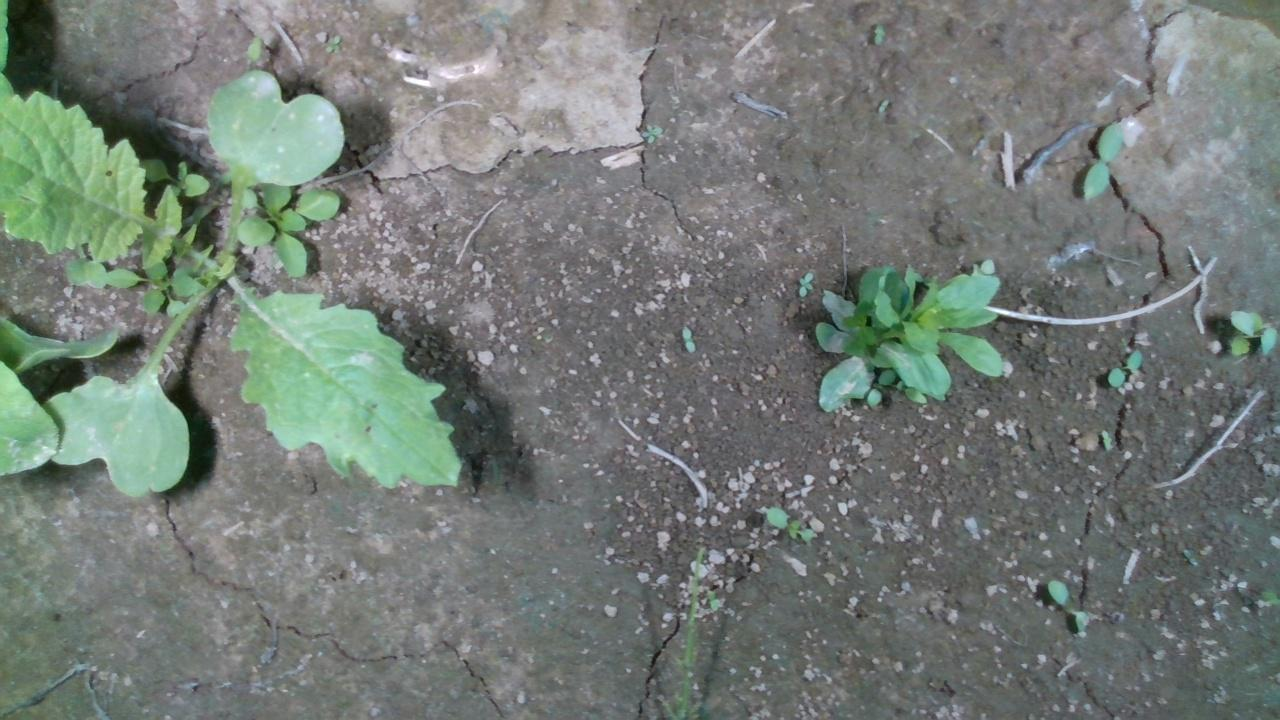weed: (1079, 120, 1123, 200), (1045, 577, 1090, 631), (762, 505, 814, 542), (1104, 348, 1142, 388), (794, 270, 815, 297), (679, 324, 695, 354), (323, 32, 341, 52)
